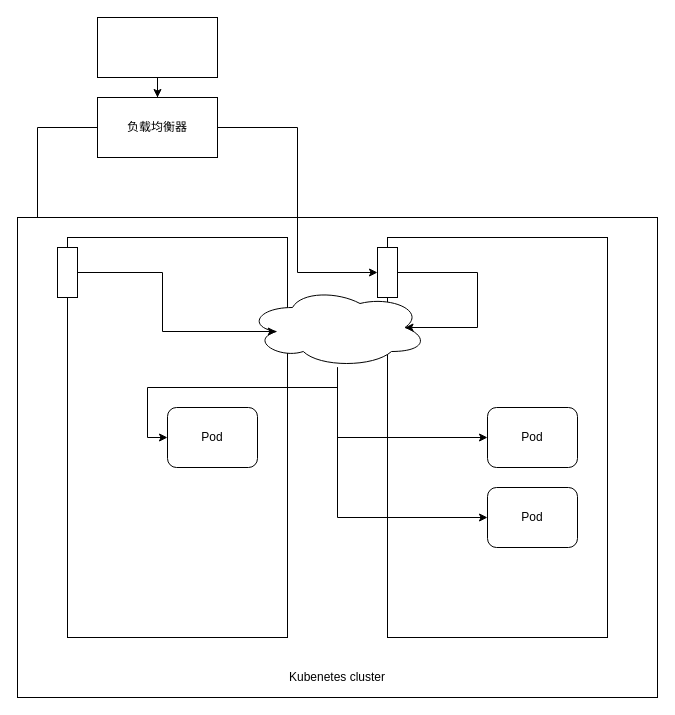
This 675x715 diagram has some shape labels left out. The shapes that lost their labels are listed below. From the top down, each one's centre as x and y in pixels, then its label:
At pixel 157 47: "外部客户端".
At pixel 337 327: "服务".
